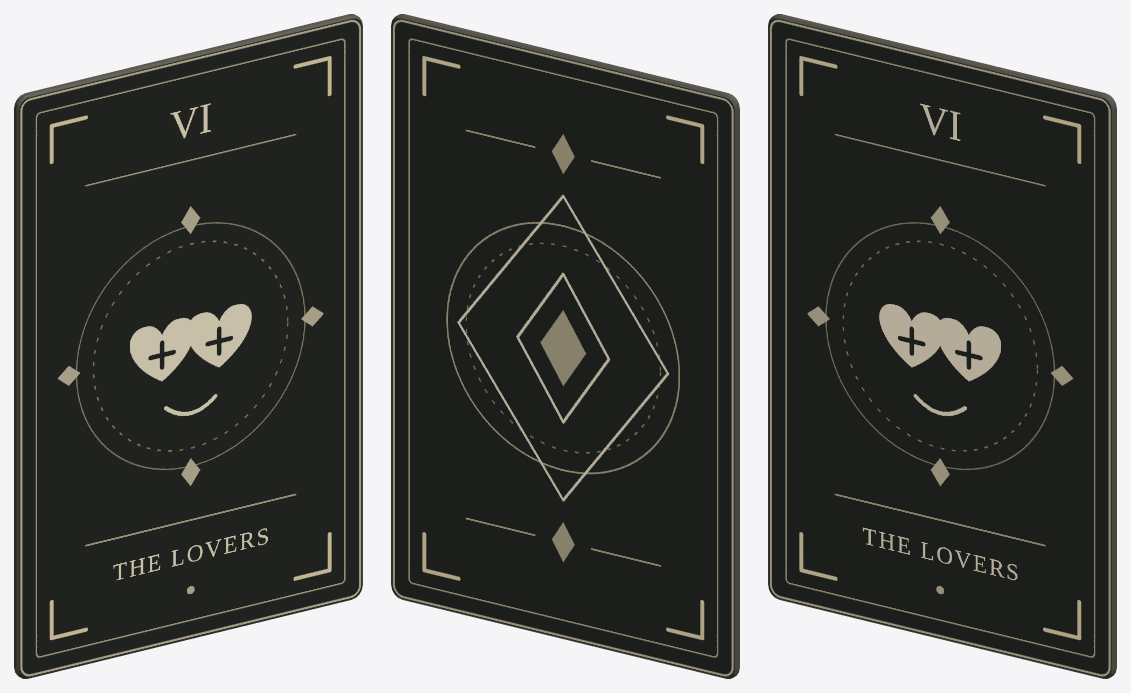
The model's file is lovers.glb.
3 renders of one model, left to right at view 1: azimuth 30°, elevation 25°; view 2: azimuth 150°, elevation 25°; view 3: azimuth 330°, elevation 25°, orthographic.
Parts seen in each view (by area): view 1: lovers; view 2: lovers; view 3: lovers.
Part boxes in pixels (left/top/right/bottom): lovers: left=14, top=14, right=362, bottom=678; lovers: left=391, top=14, right=739, bottom=678; lovers: left=768, top=14, right=1116, bottom=678.
Bounding box in the file's own units: 0.18 × 0.29 × 0.004.
3 materials, 2 textured.
